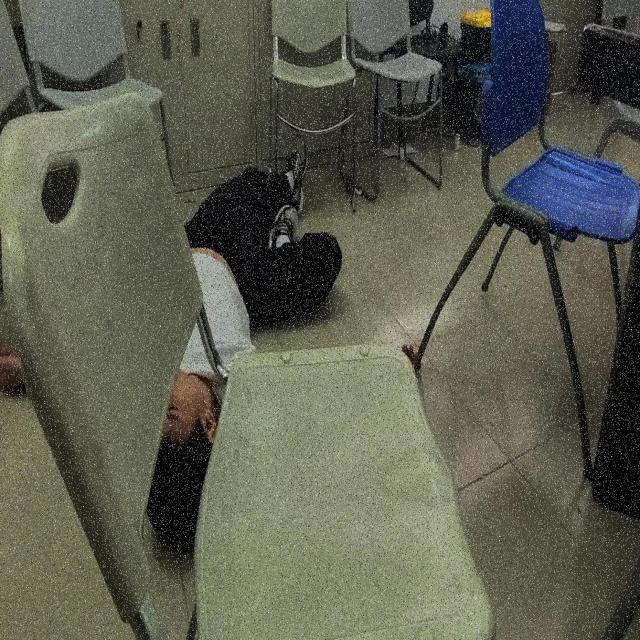fall: (1, 124, 343, 540)
